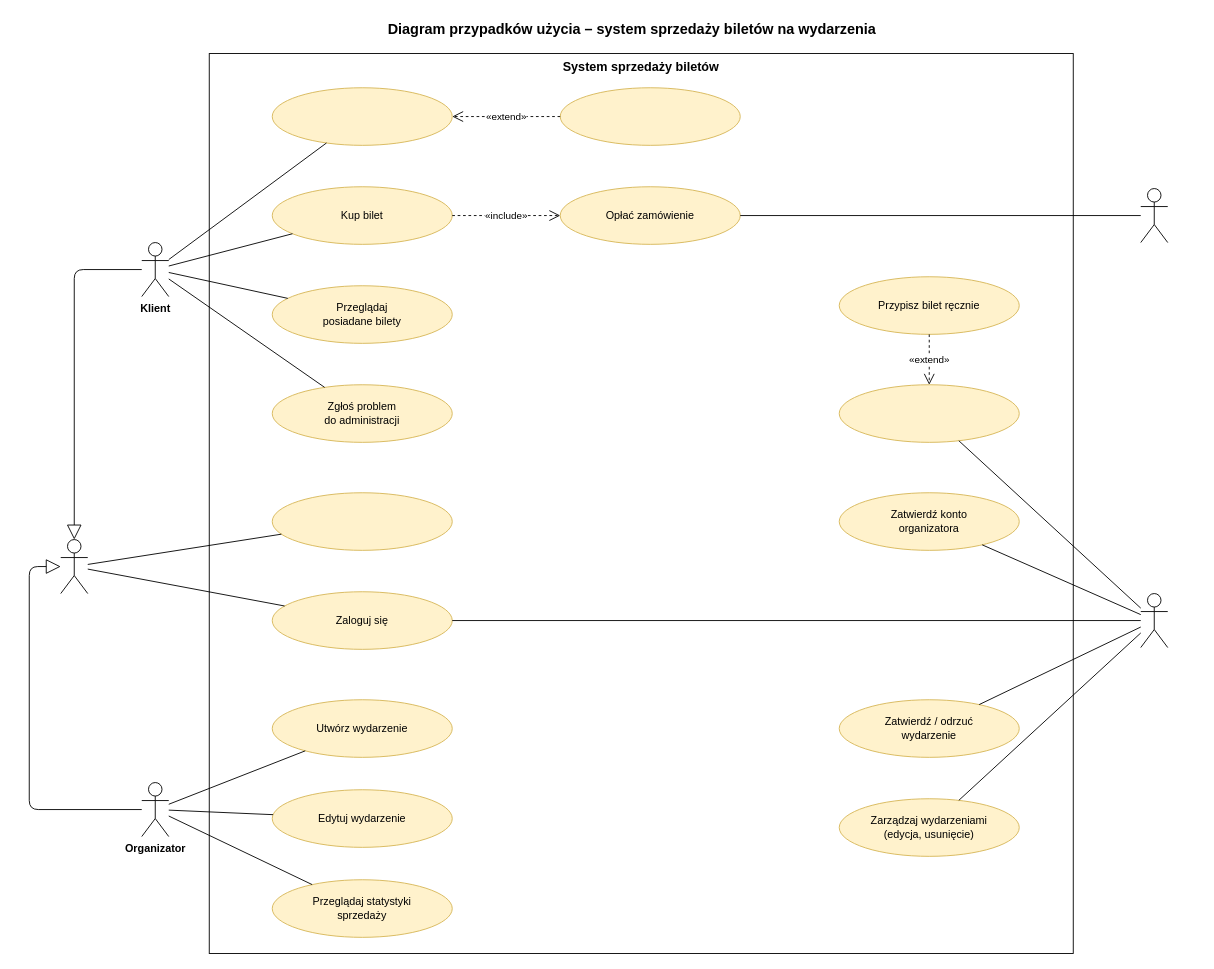
Image size: 1214x969. Some labels were removed from this diagram. Each missing label, with the centre of its shape:
Administrator: pixel 1154 620
Przeglądaj wydarzenia: pixel 361 116
Rozpatrz zgłoszenie: pixel 928 413
System płatności (zewnętrzny): pixel 1154 215
Użytkownik: pixel 74 566
Wyszukaj wydarzenie po nazwie: pixel 649 116
Zarejestruj konto: pixel 361 521
